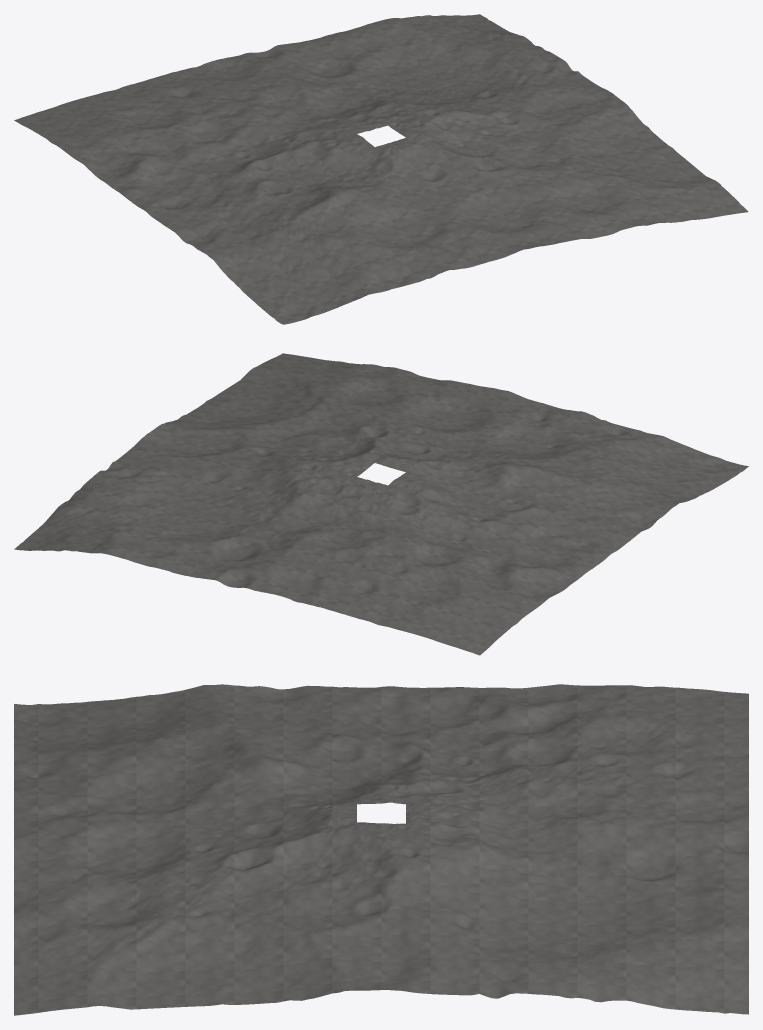
File: mons-mouton_far.glb
3 renders of one model, top to bottom at view 1: azimuth 30°, elevation 25°; view 2: azimuth 150°, elevation 25°; view 3: azimuth 270°, elevation 25°, orthographic. The views are drawn at different scales.
Parts seen in each view (by area): view 1: FarTerrain; view 2: FarTerrain; view 3: FarTerrain.
Part boxes in pixels (<box>): FarTerrain: <box>14,14,748,324</box>; FarTerrain: <box>14,353,748,655</box>; FarTerrain: <box>14,684,748,1015</box>.
Bounding box in the file's own units: 300 × 22.81 × 300.
Materials: 1 (1 with a texture image).
